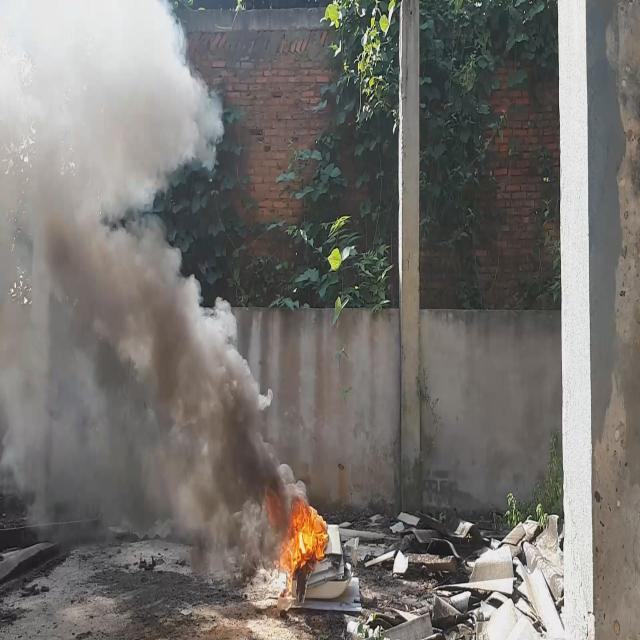Fire: (274, 496, 330, 594)
Smoke: (0, 0, 305, 578)
